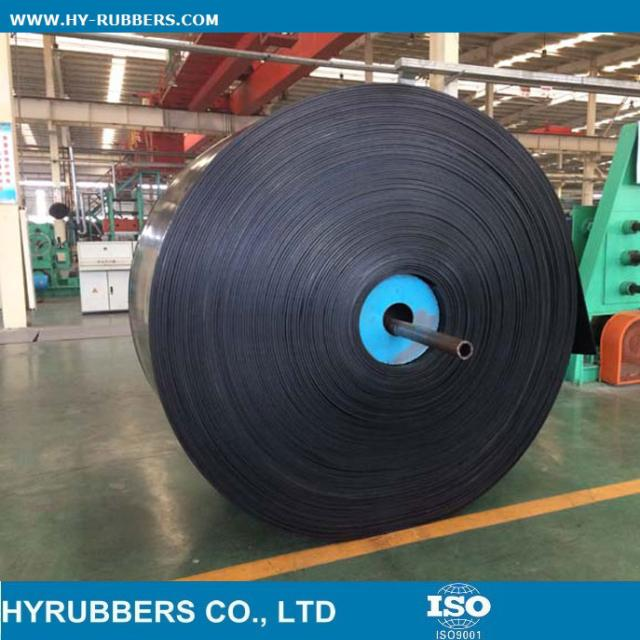conveyor: (90, 64, 608, 527)
